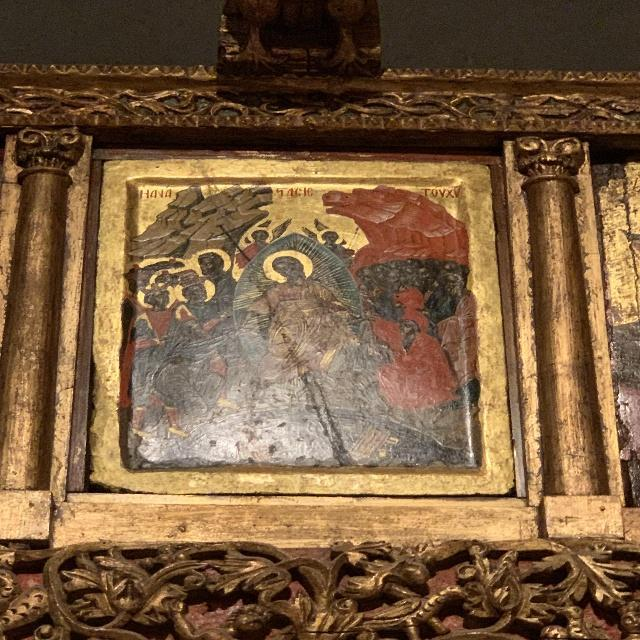aura: (263, 249, 313, 291)
father: (232, 231, 362, 390)
